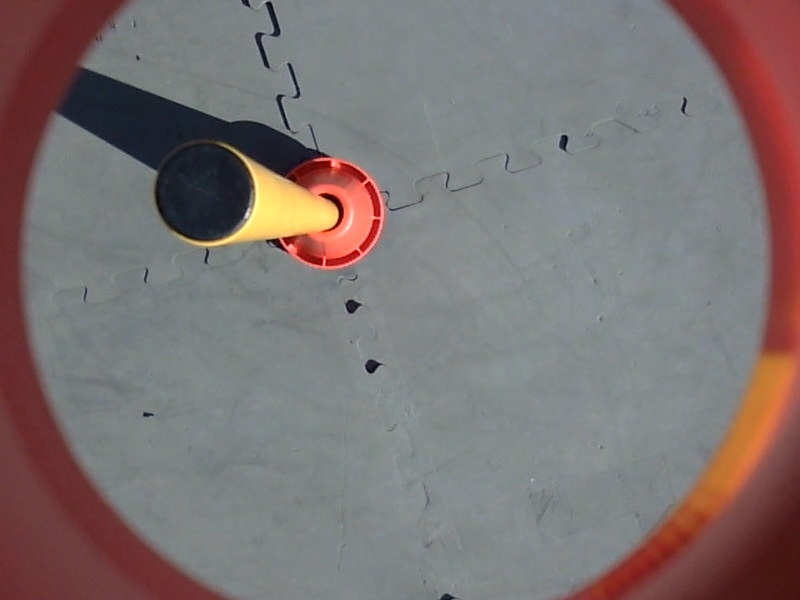tip: (152, 133, 268, 253)
